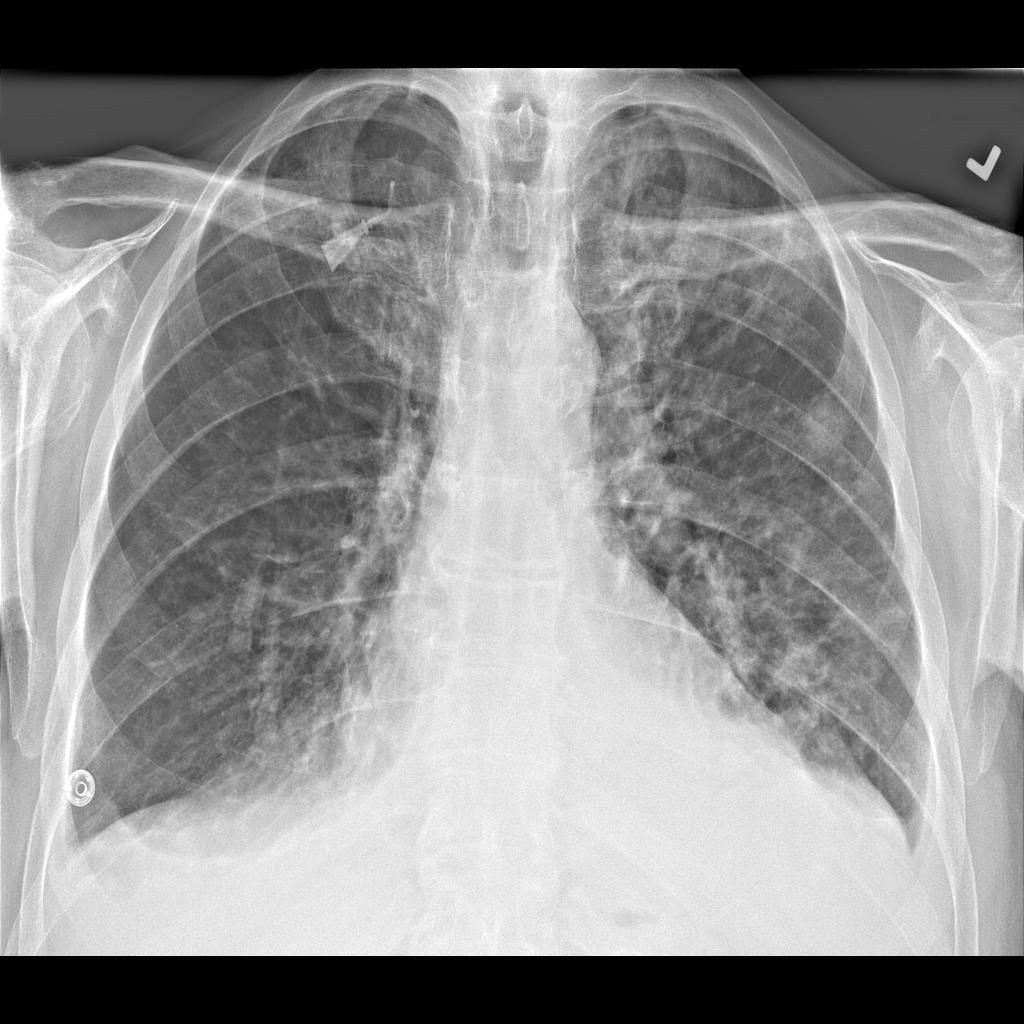Nodule: (796, 390, 857, 471), (778, 632, 833, 701)
